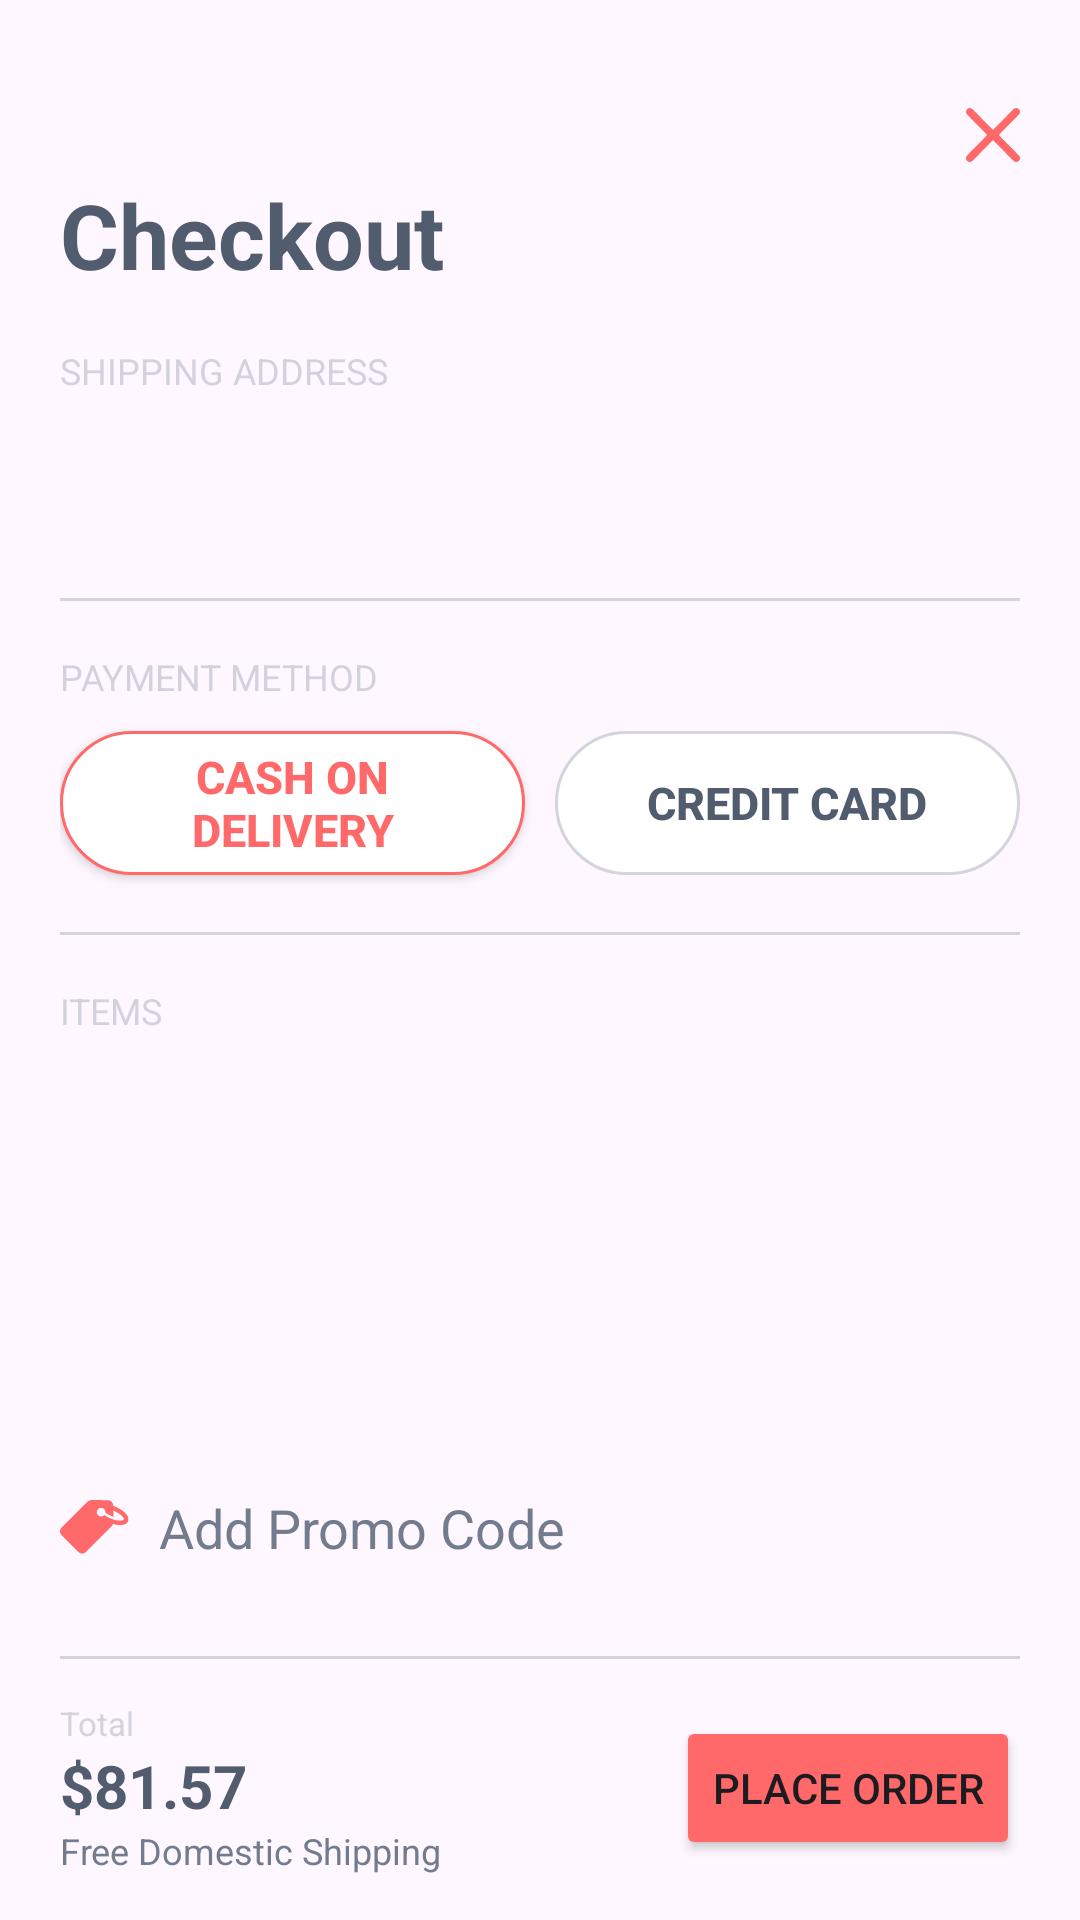

Named icons in this screenshot (1080px x 1920px) and their bounding boxes, (x1, y1, x2, y2):
close: (966, 108, 1020, 162)
promo tag: (60, 1500, 129, 1554)
